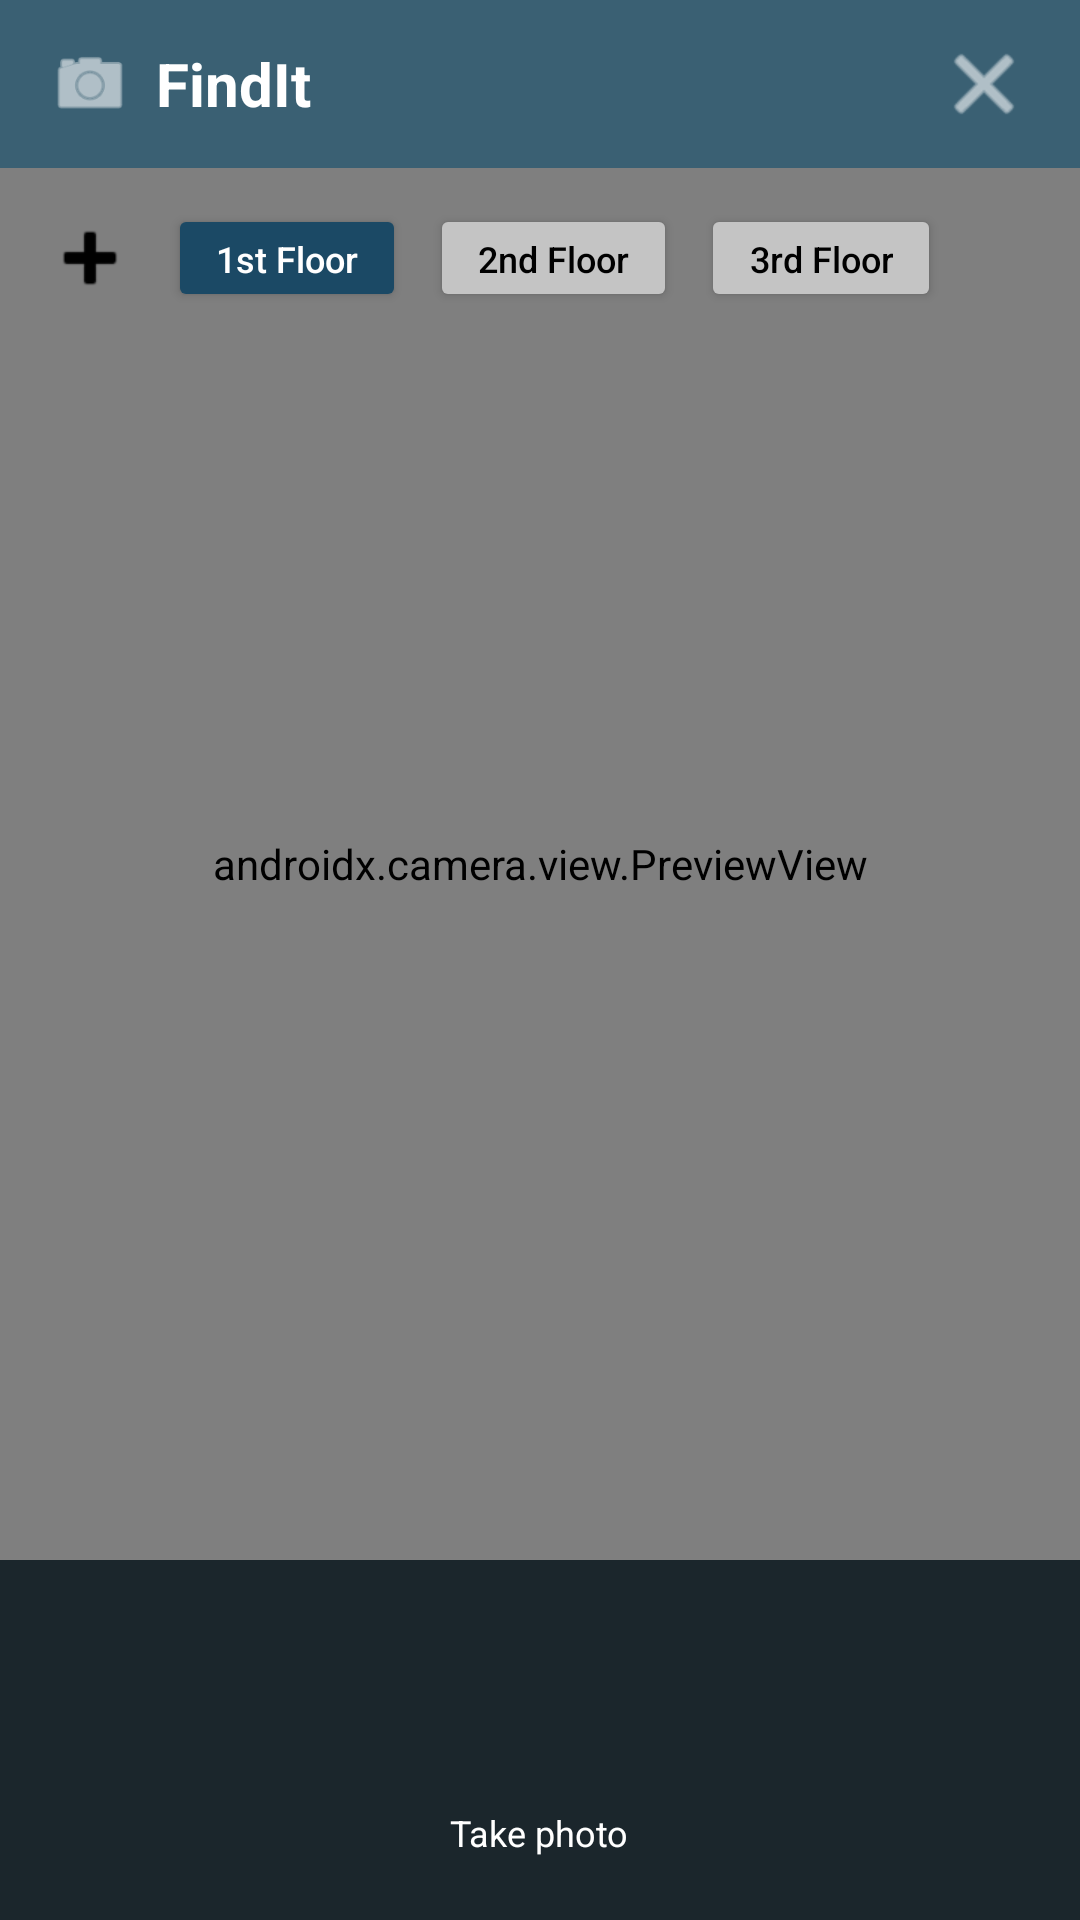

Icon click points for this 1080*1920 phone screenshot, format point (x, y):
add: point (90, 258)
close clear cancel: point (984, 84)
